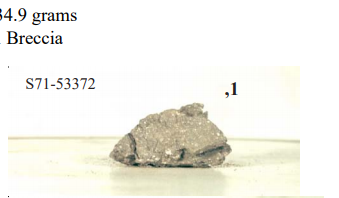Breccia: (109, 103, 234, 178)
